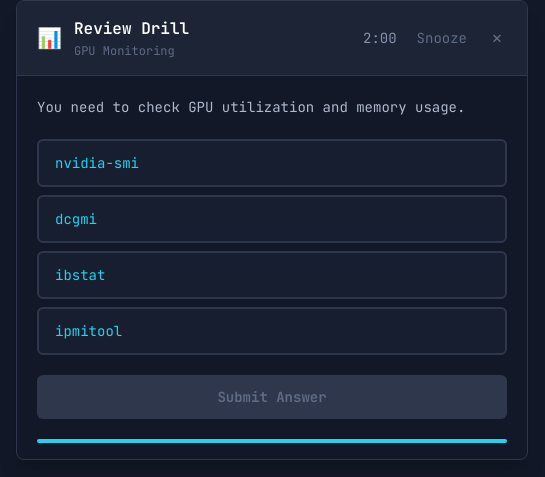
Test: SpacedReviewDrill › shows correct feedback when answer is correct
Step 1. Click the button "nvidia-smi" → (97, 163), box [37, 139, 507, 187]
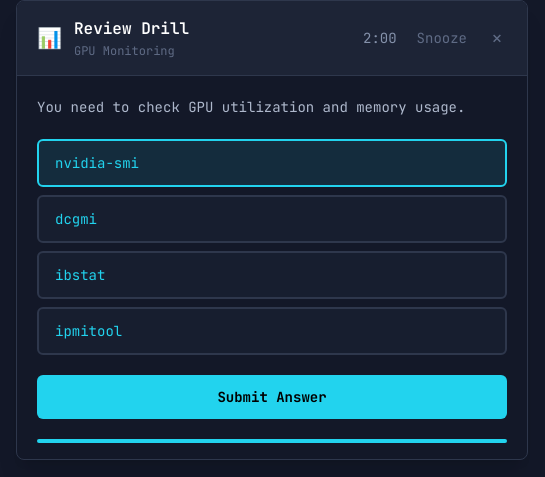
Step 2. Click the button "Submit Answer" → (272, 397), box [37, 375, 507, 419]
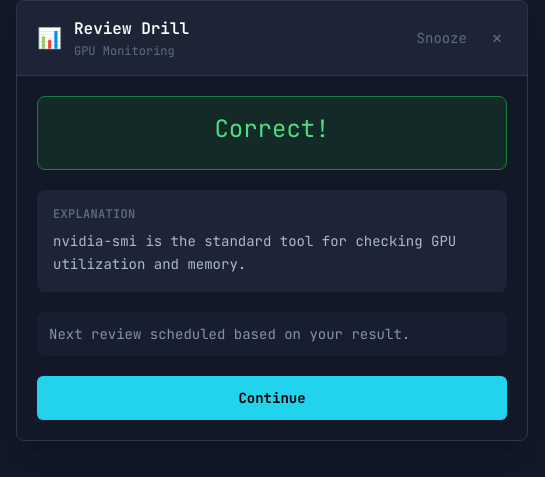
expect the text "Correct!" is shown: met, box [214, 113, 330, 144]
